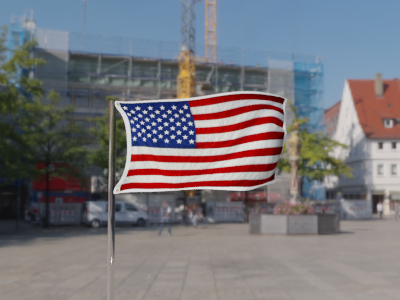America flag: (115, 89, 287, 191)
